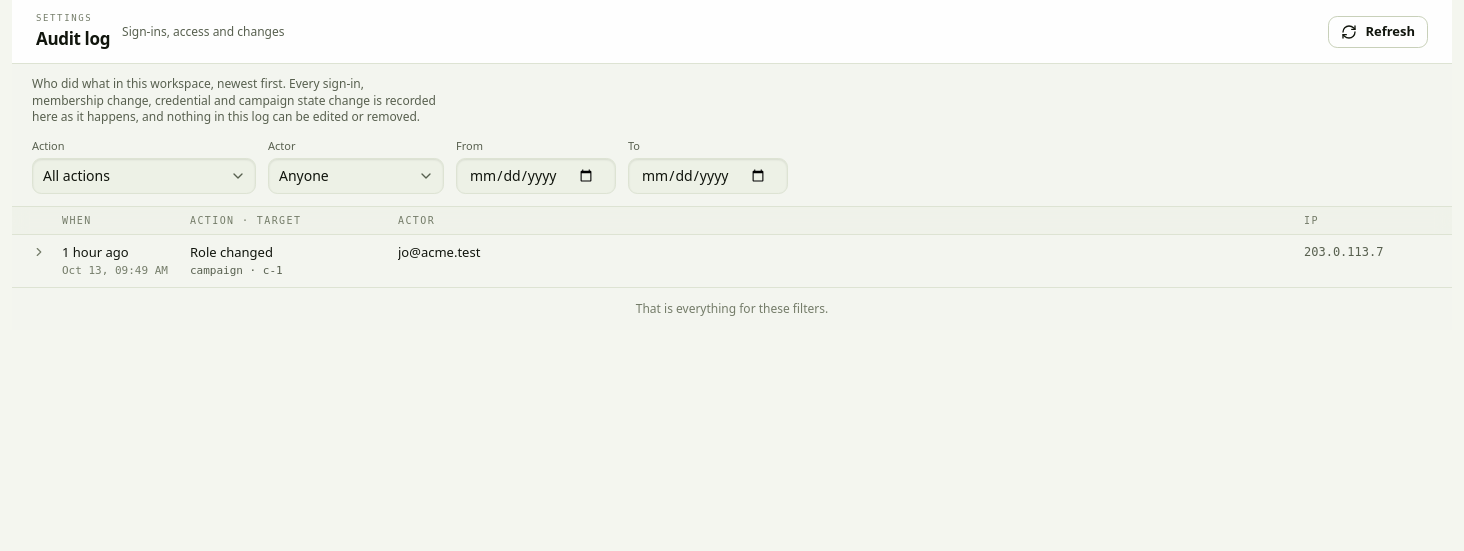
Test: expanding a row shows metadata and the user agent — as text, never markup
Check: the text "from_role" is not shown
Click the button "Role changed".
click(95, 252)  # box left=12, top=235, right=1452, bottom=287
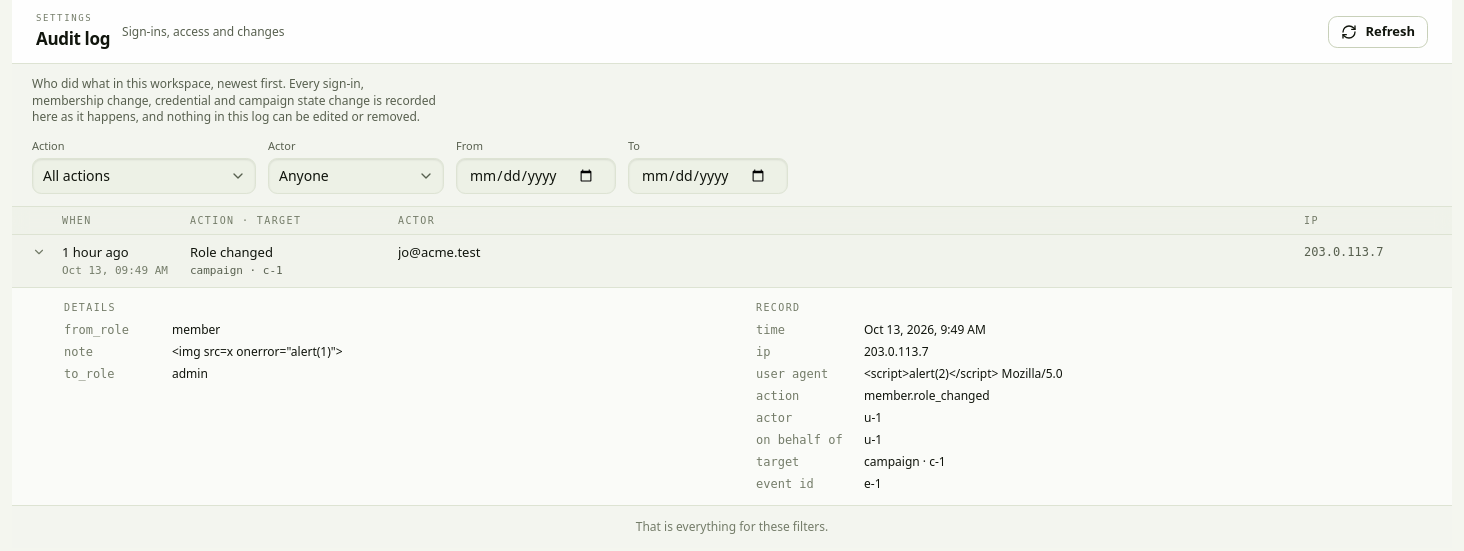
Check: the button "Role changed" is expanded
Check: the text "from_role" is shown, box left=64, top=323, right=129, bottom=337
Check: the text "member" is shown, box left=172, top=321, right=220, bottom=338
Click the button "Role changed".
click(95, 252)  # box left=12, top=235, right=1452, bottom=287
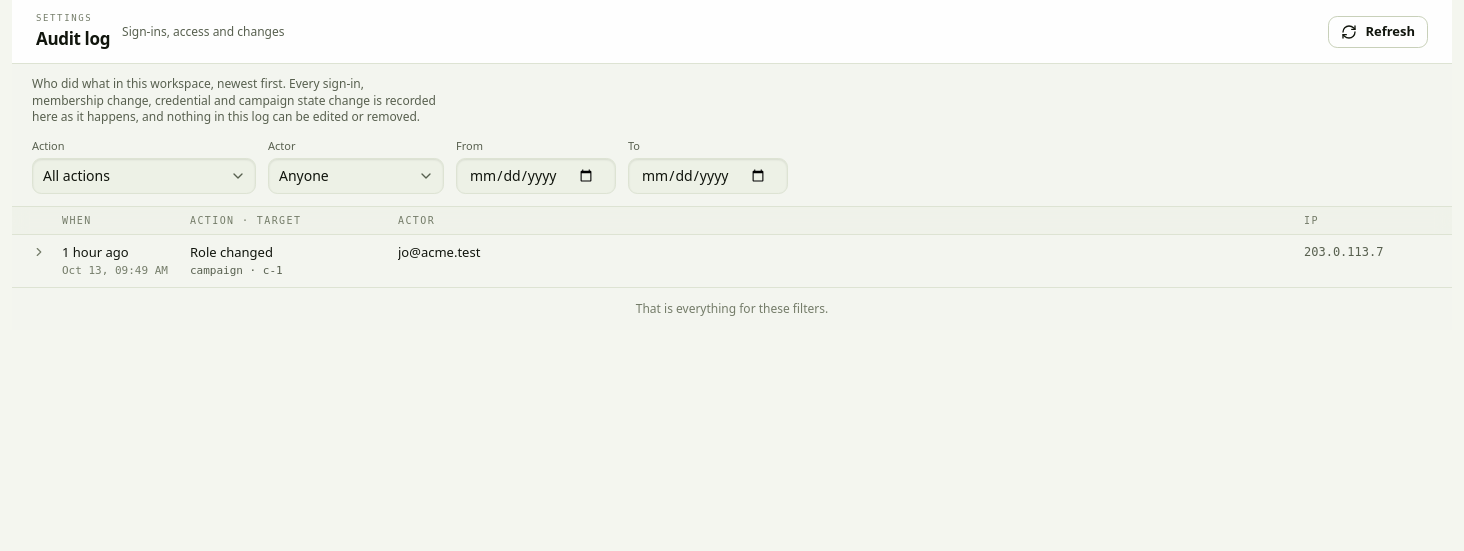
Check: the text "from_role" is gone
